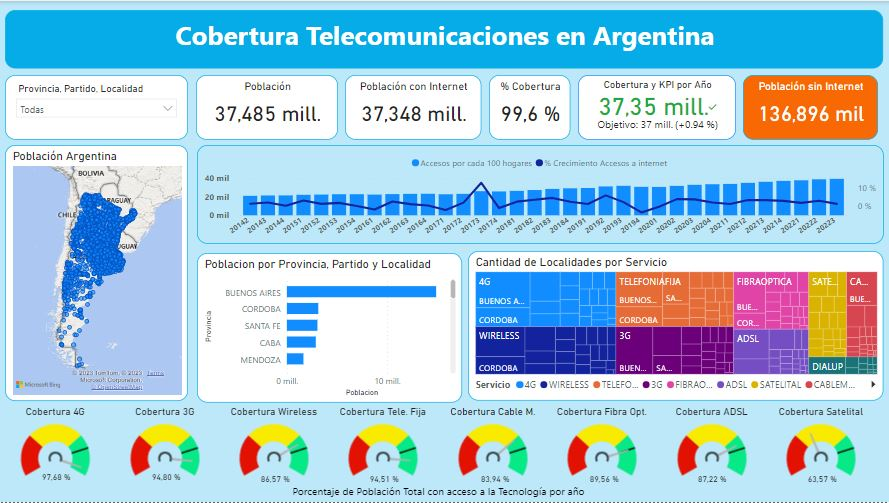

What the dashboard file says about the page in this screenshot:
{"tool":"powerbi","page":{"name":"Cobertura Telecomunicaciones","canvas":[1280,720],"ordinal":0},"visuals":[{"type":"textbox","box":[9.1,12.9,1261.9,84],"z":0},{"type":"slicer","fields":{"Values":["Conectividad Provincias Pivot.Provincia Jerarquía.Provincia","Conectividad Provincias Pivot.Provincia Jerarquía.Partido","Conectividad Provincias Pivot.Provincia Jerarquía.Localidad"]},"box":[9.3,106.7,262.7,92.8],"z":1000},{"type":"card","title":"Población","fields":{"Values":["Metricas.Poblacion"]},"box":[282.5,106.7,204.2,92.8],"z":2000},{"type":"card","title":"Población con Internet","fields":{"Values":["Metricas.Poblacion"]},"box":[497.3,106.7,195.9,92.8],"z":3000},{"type":"card","title":"Población sin Internet","fields":{"Values":["Metricas.Poblacion"]},"box":[1069.2,106.3,194,93.4],"z":4000},{"type":"treemap","title":"Cantidad de Localidades por Servicio","fields":{"Values":["Sum(Conectividad Provincias Pivot.Valor)"],"Group":["Conectividad Provincias Pivot.Servicio"],"Details":["Conectividad Provincias Pivot.Provincia Jerarquía.Provincia"]},"box":[673.9,359.2,596.8,215.3],"z":5000},{"type":"map","title":"Población Argentina","fields":{"X":["Conectividad por provincia.Longitud"],"Y":["Conectividad por provincia.Latitud"],"Size":["Metricas.Poblacion"]},"box":[9.3,207,262.7,368.5],"z":6000},{"type":"lineClusteredColumnComboChart","fields":{"Category":["Consulta1.Date"],"Y":["Sum(Consulta1.Accesos por cada 100 hogares)"],"Y2":["Metricas.% de Crecimiento Accesos a internet"]},"box":[284,207,986.7,142],"z":7000},{"type":"Tachometer1474636471549","title":"Cobertura Cable M.","fields":{"Y":["Metricas.% Cobertura de internet"],"EndValue":["Metricas.TotalPoblacion"],"TargetValue":["Metricas.80% Poblacion"],"Range2StartValue":["Metricas.20% Poblacion"],"Range3StartValue":["Metricas.70% Poblacion"]},"box":[639.3,582,140.6,110],"z":8000},{"type":"Tachometer1474636471549","title":"Cobertura 4G","fields":{"EndValue":["Metricas.TotalPoblacion"],"TargetValue":["Metricas.80% Poblacion"],"Range2StartValue":["Metricas.20% Poblacion"],"Range3StartValue":["Metricas.70% Poblacion"],"Y":["Metricas.% Cobertura de internet"],"DisplayFilter":["Metricas.% Cobertura de internet"]},"box":[9.5,582,141.6,110],"z":9000,"group":"g2"},{"type":"Tachometer1474636471549","title":"Cobertura Fibra Opt.","fields":{"Y":["Metricas.% Cobertura de internet"],"EndValue":["Metricas.TotalPoblacion"],"TargetValue":["Metricas.80% Poblacion"],"Range2StartValue":["Metricas.20% Poblacion"],"Range3StartValue":["Metricas.70% Poblacion"]},"box":[796.5,582,140.6,110],"z":9000},{"type":"Tachometer1474636471549","title":"Cobertura 3G","fields":{"Y":["Metricas.% Cobertura de internet"],"EndValue":["Metricas.TotalPoblacion"],"TargetValue":["Metricas.80% Poblacion"],"Range2StartValue":["Metricas.20% Poblacion"],"Range3StartValue":["Metricas.70% Poblacion"]},"box":[167.8,582,140.6,110],"z":10000,"group":"g1"},{"type":"Tachometer1474636471549","title":"Cobertura ADSL","fields":{"Y":["Metricas.% Cobertura de internet"],"EndValue":["Metricas.TotalPoblacion"],"TargetValue":["Metricas.80% Poblacion"],"Range2StartValue":["Metricas.20% Poblacion"],"Range3StartValue":["Metricas.70% Poblacion"]},"box":[953.7,582,140.6,110],"z":10000},{"type":"Tachometer1474636471549","title":"Cobertura Wireless","fields":{"Y":["Metricas.% Cobertura de internet"],"EndValue":["Metricas.TotalPoblacion"],"TargetValue":["Metricas.80% Poblacion"],"Range2StartValue":["Metricas.20% Poblacion"],"Range3StartValue":["Metricas.70% Poblacion"]},"box":[324.9,582,140.6,110],"z":11000,"group":"g3"},{"type":"Tachometer1474636471549","title":"Cobertura Satelital","fields":{"Y":["Metricas.% Cobertura de internet"],"EndValue":["Metricas.TotalPoblacion"],"TargetValue":["Metricas.80% Poblacion"],"Range2StartValue":["Metricas.20% Poblacion"],"Range3StartValue":["Metricas.70% Poblacion"]},"box":[1110.9,582,140.6,110],"z":11000},{"type":"Tachometer1474636471549","title":"Cobertura Tele. Fija","fields":{"Y":["Metricas.% Cobertura de internet"],"EndValue":["Metricas.TotalPoblacion"],"TargetValue":["Metricas.80% Poblacion"],"Range2StartValue":["Metricas.20% Poblacion"],"Range3StartValue":["Metricas.70% Poblacion"]},"box":[482.1,582,140.6,110],"z":12000,"group":"g4"},{"type":"textbox","box":[0,691.5,1263.3,28.8],"z":12000},{"type":"clusteredBarChart","title":"Poblacion por Provincia, Partido y Localidad","fields":{"Category":["Conectividad por provincia.Provincia Jerarquía.Provincia","Conectividad por provincia.Provincia Jerarquía.Partido","Conectividad por provincia.Provincia Jerarquía.Localidad"],"Y":["Metricas.Poblacion"]},"box":[284,362,380.6,215.3],"z":13000},{"type":"group","id":"g1","title":"Grupo 1","box":[167.8,582,140.6,117.7],"z":14000},{"type":"group","id":"g2","title":"Grupo 2","box":[9.5,582,141.6,117.7],"z":15000},{"type":"card","fields":{"Values":["Metricas.% Cobertura de Internet"]},"box":[679.6,673.3,66.6,26.4],"z":16000},{"type":"group","id":"g3","title":"Grupo 3","box":[324.9,582,140.6,117.7],"z":17000},{"type":"group","id":"g4","title":"Grupo 4","box":[482.1,582,140.6,117.7],"z":18000},{"type":"card","fields":{"Values":["Metricas.% Cobertura de Internet"]},"box":[48.6,672.2,66.6,27.5],"z":19000,"group":"g2"},{"type":"card","fields":{"Values":["Metricas.% Cobertura de Internet"]},"box":[836.1,673.3,66.6,26.4],"z":19000},{"type":"card","fields":{"Values":["Metricas.% Cobertura de Internet"]},"box":[207.2,672.2,66.6,27.5],"z":19001,"group":"g1"},{"type":"card","fields":{"Values":["Metricas.% Cobertura de Internet"]},"box":[363.6,673.3,66.6,26.4],"z":19002,"group":"g3"},{"type":"card","fields":{"Values":["Metricas.% Cobertura de Internet"]},"box":[521.1,673.3,66.6,26.4],"z":19005,"group":"g4"},{"type":"card","fields":{"Values":["Metricas.% Cobertura de Internet"]},"box":[991.4,673.3,66.6,26.4],"z":20000},{"type":"card","fields":{"Values":["Metricas.% Cobertura de Internet"]},"box":[1150,673.3,66.6,26.4],"z":21000},{"type":"card","title":"% Cobertura","fields":{"Values":["Metricas.% Cobertura Global"]},"box":[703.7,106.8,117.3,93],"z":22000},{"type":"kpi","fields":{"TrendLine":["Tendencia de Consultas por hogar.Año"],"Goal":["Metricas.KPI"],"Indicator":["Metricas.Cobertura"]},"box":[831.6,106.8,227.1,93],"z":23000}]}

Visuals, with their boxes in screenshot pixels (x1, y1, x2, y2), scaled from the page's 1280x720 canvas onto the 889x503 screenshot:
textbox: 6/9/883/68
slicer - Conectividad Provincias Pivot.Provincia Jerarquía.Provincia x Conectividad Provincias Pivot.Provincia Jerarquía.Partido: 6/75/189/139
"Población" card: 196/75/338/139
"Población con Internet" card: 345/75/481/139
"Población sin Internet" card: 743/74/877/140
"Cantidad de Localidades por Servicio" treemap: 468/251/883/401
"Población Argentina" map: 6/145/189/402
lineClusteredColumnComboChart - Consulta1.Date x Sum(Consulta1.Accesos por cada 100 hogares): 197/145/883/244
"Cobertura Cable M." Tachometer1474636471549: 444/407/542/483
"Cobertura 4G" Tachometer1474636471549: 7/407/105/483
"Cobertura Fibra Opt." Tachometer1474636471549: 553/407/651/483
"Cobertura 3G" Tachometer1474636471549: 117/407/214/483
"Cobertura ADSL" Tachometer1474636471549: 662/407/760/483
"Cobertura Wireless" Tachometer1474636471549: 226/407/323/483
"Cobertura Satelital" Tachometer1474636471549: 772/407/869/483
"Cobertura Tele. Fija" Tachometer1474636471549: 335/407/432/483
textbox: 0/483/877/502
"Poblacion por Provincia, Partido y Localidad" clusteredBarChart: 197/253/462/403
"Grupo 1" group: 117/407/214/489
"Grupo 2" group: 7/407/105/489
card - Metricas.% Cobertura de Internet: 472/470/518/489
"Grupo 3" group: 226/407/323/489
"Grupo 4" group: 335/407/432/489
card - Metricas.% Cobertura de Internet: 34/470/80/489
card - Metricas.% Cobertura de Internet: 581/470/627/489
card - Metricas.% Cobertura de Internet: 144/470/190/489
card - Metricas.% Cobertura de Internet: 253/470/299/489
card - Metricas.% Cobertura de Internet: 362/470/408/489
card - Metricas.% Cobertura de Internet: 689/470/735/489
card - Metricas.% Cobertura de Internet: 799/470/845/489
"% Cobertura" card: 489/75/570/140
kpi - Tendencia de Consultas por hogar.Año x Metricas.KPI: 578/75/735/140
